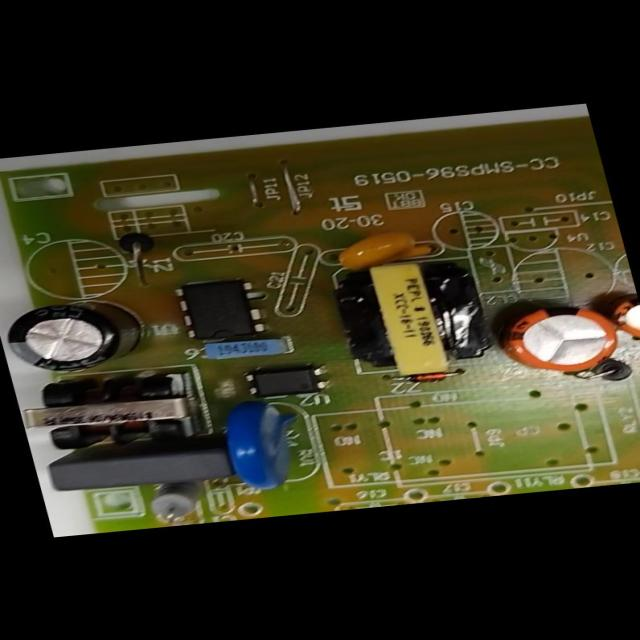Cap1: (496, 300, 627, 377)
Cap2: (607, 298, 639, 340)
Cap3: (0, 295, 158, 376)
MOSFET: (172, 278, 270, 340)
Mov: (216, 401, 314, 492)
Resistor: (146, 480, 218, 523)
Transformer: (336, 254, 501, 379), (14, 371, 205, 455)
